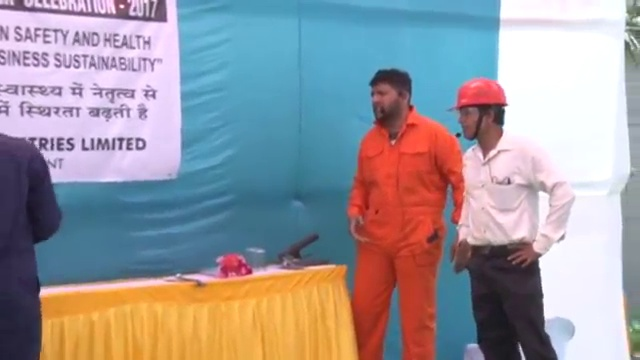helmet: (446, 77, 509, 112)
helmet_off: (369, 66, 415, 121)
helmet_on: (446, 75, 513, 147)
person: (446, 73, 576, 360), (349, 66, 466, 360), (1, 132, 63, 360)
